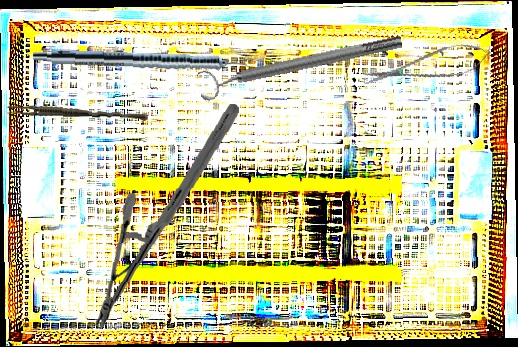Fixation Ring: (195, 26, 406, 103)
Handpiece: (31, 47, 263, 77)
Micro Scissor: (360, 36, 494, 96)
Needle Holder: (95, 97, 239, 335)
Tissue Forceps: (6, 104, 149, 122)
